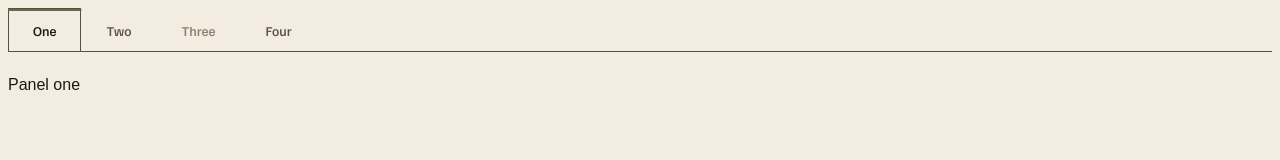
Tabs audit › F9 keepMounted › renders empty shells for inactive panels when false
The image size is (1280, 160).
Expected: the panel with class "ol-tabs__panel" reads "Panel one", [8,76,80,93]
Step 1. Click the tab "Two" → (119, 30), box [81,8,157,52]
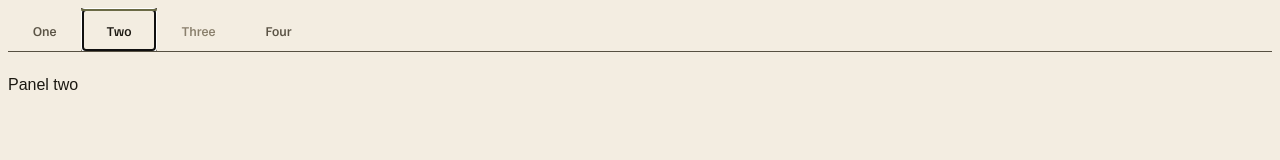
Expected: the panel with class "ol-tabs__panel" reads "Panel two", [8,76,78,93]
